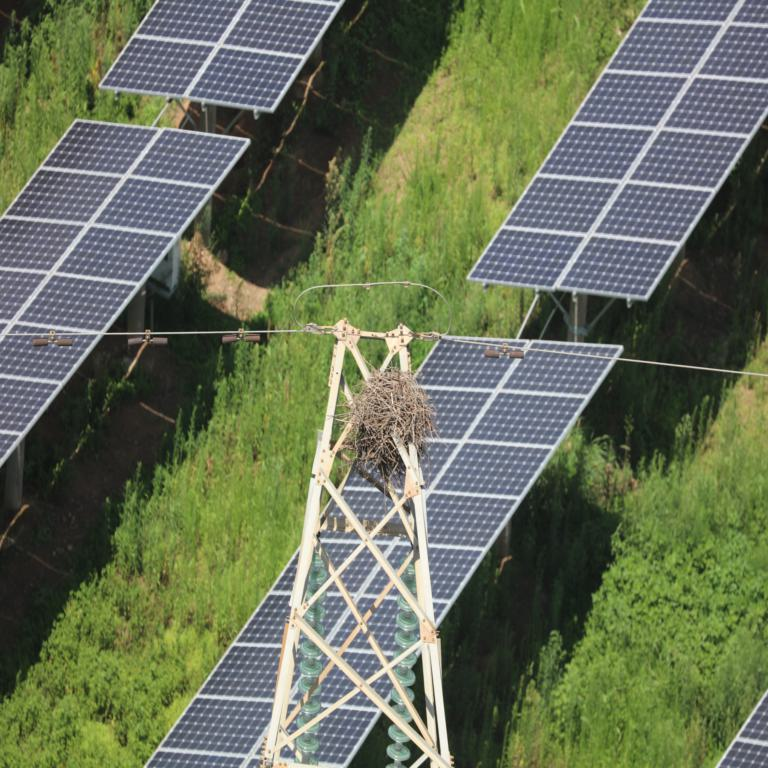nest: (346, 372, 428, 465)
